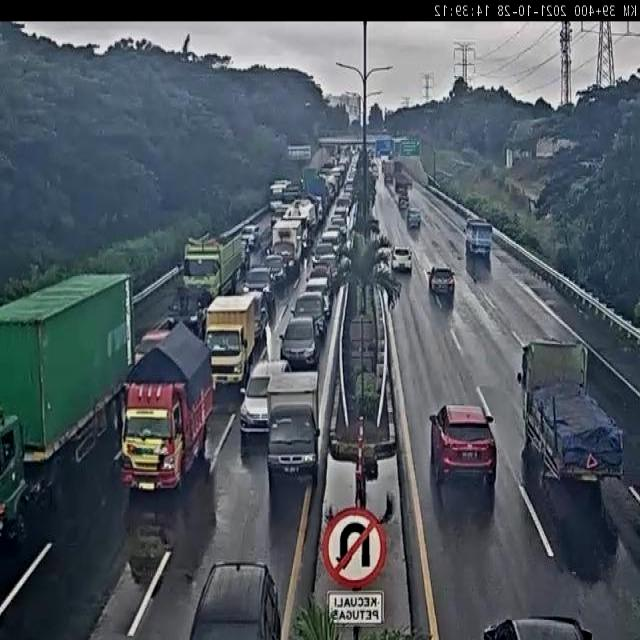Car: (185, 548, 283, 640), (428, 398, 498, 483), (237, 362, 286, 434), (280, 313, 318, 367), (289, 292, 326, 338), (243, 268, 276, 314), (426, 263, 458, 307), (309, 241, 337, 269), (304, 271, 329, 297), (391, 246, 409, 281), (318, 228, 343, 245), (405, 208, 421, 234)
Truck: (0, 277, 134, 544), (119, 322, 214, 503), (521, 341, 622, 479), (266, 370, 319, 488), (206, 288, 254, 390), (180, 232, 247, 294), (272, 196, 317, 274), (467, 204, 493, 259)
